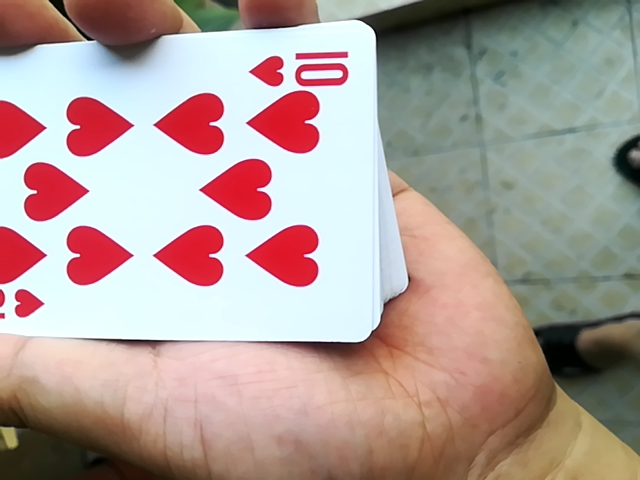hx 10: (0, 29, 383, 343)
